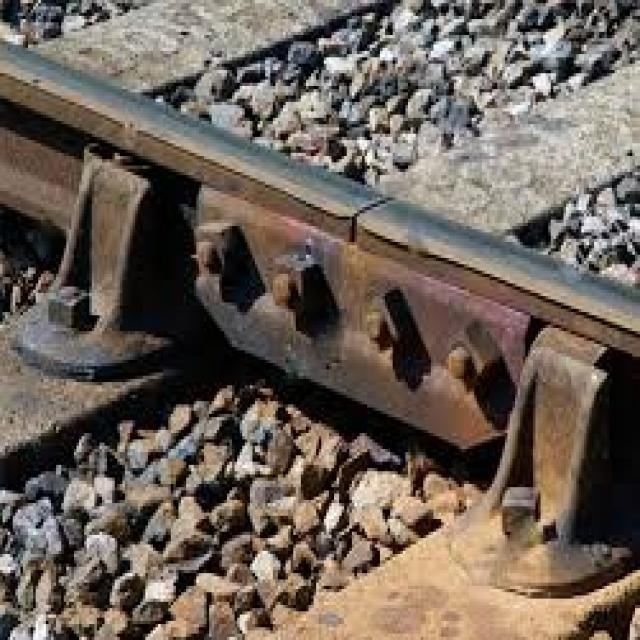non-defective: (239, 104, 542, 524)
